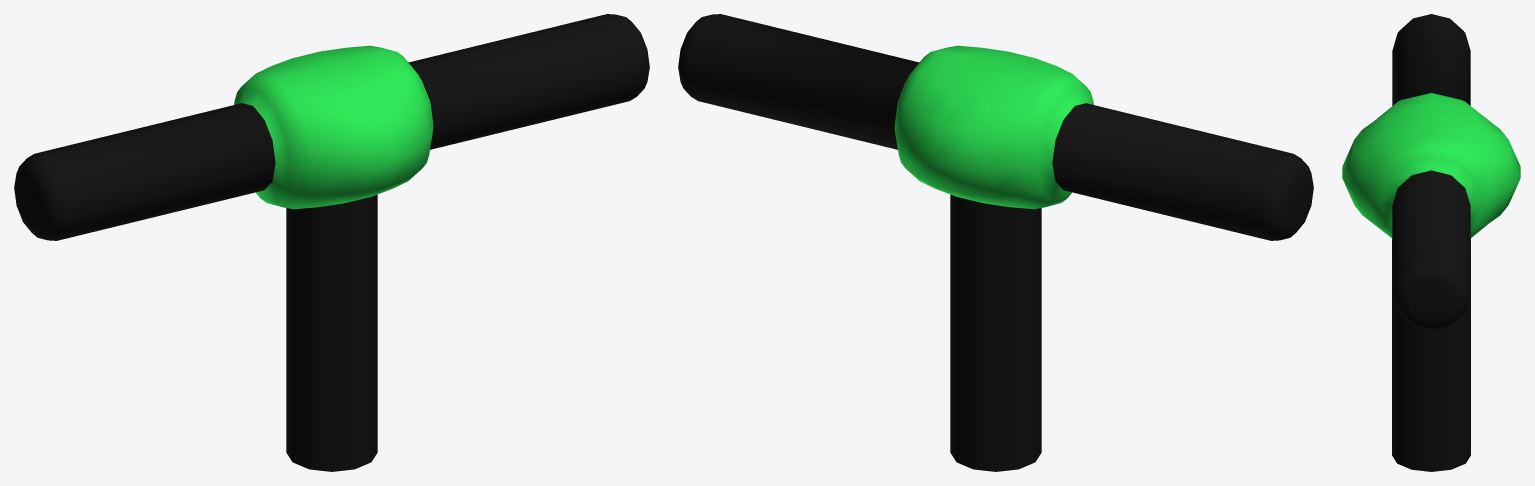
The model's file is Pompa2.fbx.
The picture shows the model from 3 angles, left to right: view 1: azimuth 30°, elevation 25°; view 2: azimuth 150°, elevation 25°; view 3: azimuth 270°, elevation 25°; orthographic projection. The views are drawn at different scales.
Parts seen in each view (by area): view 1: Cylinder.011; view 2: Cylinder.011; view 3: Cylinder.011.
Part boxes in pixels (left/top/right/bottom): Cylinder.011: left=14, top=14, right=649, bottom=471; Cylinder.011: left=678, top=14, right=1313, bottom=471; Cylinder.011: left=1342, top=14, right=1520, bottom=471.
Size of the model in its own units: 33.75 by 20.68 by 9.92.
